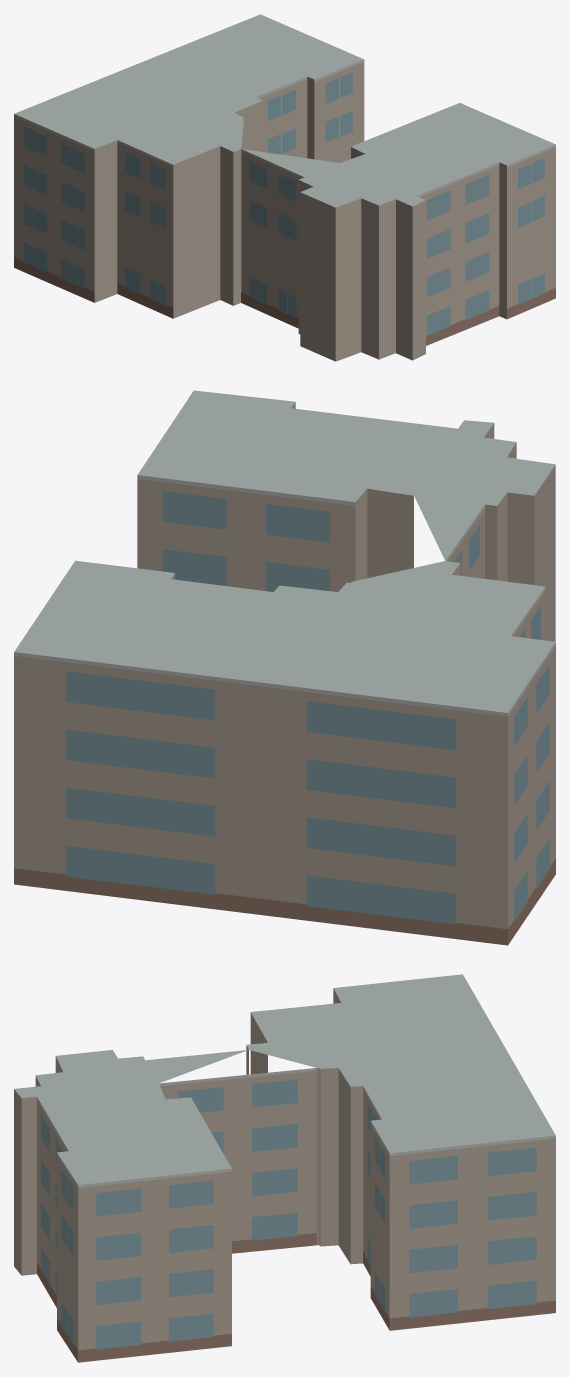
The model's file is survey-upis-32838073.glb.
3 renders of one model, top to bottom at view 1: azimuth 30°, elevation 25°; view 2: azimuth 150°, elevation 25°; view 3: azimuth 270°, elevation 25°, orthographic. The views are drawn at different scales.
Visible parts, largest first — view 1: survey-upis-32838073.tmp; view 2: survey-upis-32838073.tmp; view 3: survey-upis-32838073.tmp.
Part boxes in pixels (<box>): survey-upis-32838073.tmp: <box>14,14,555,361</box>; survey-upis-32838073.tmp: <box>14,390,555,945</box>; survey-upis-32838073.tmp: <box>14,974,555,1362</box>.
Size of the model in its own units: 37.84 by 14.84 by 41.08.
